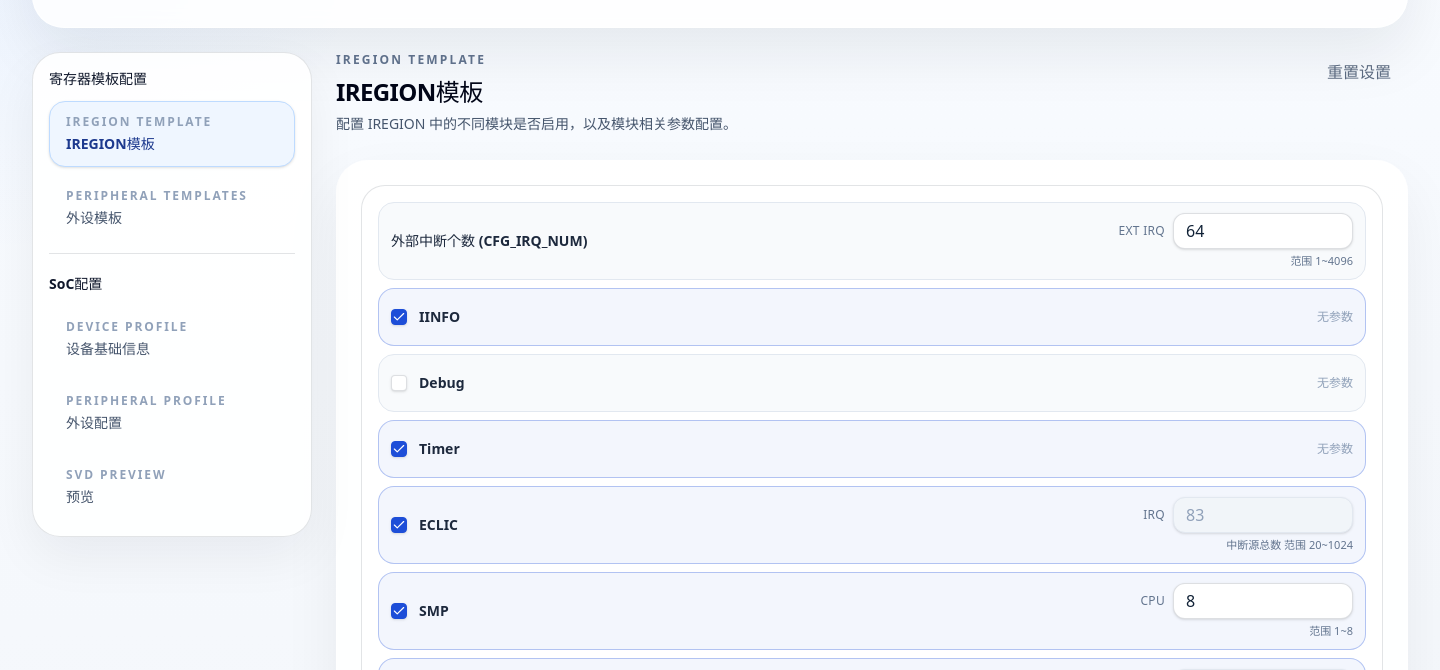
Scenario: App › only allows enabling CIDU after both ECLIC and SMP are enabled
Click the text "ECLIC".
click(438, 525)  # box [419,515,458,535]
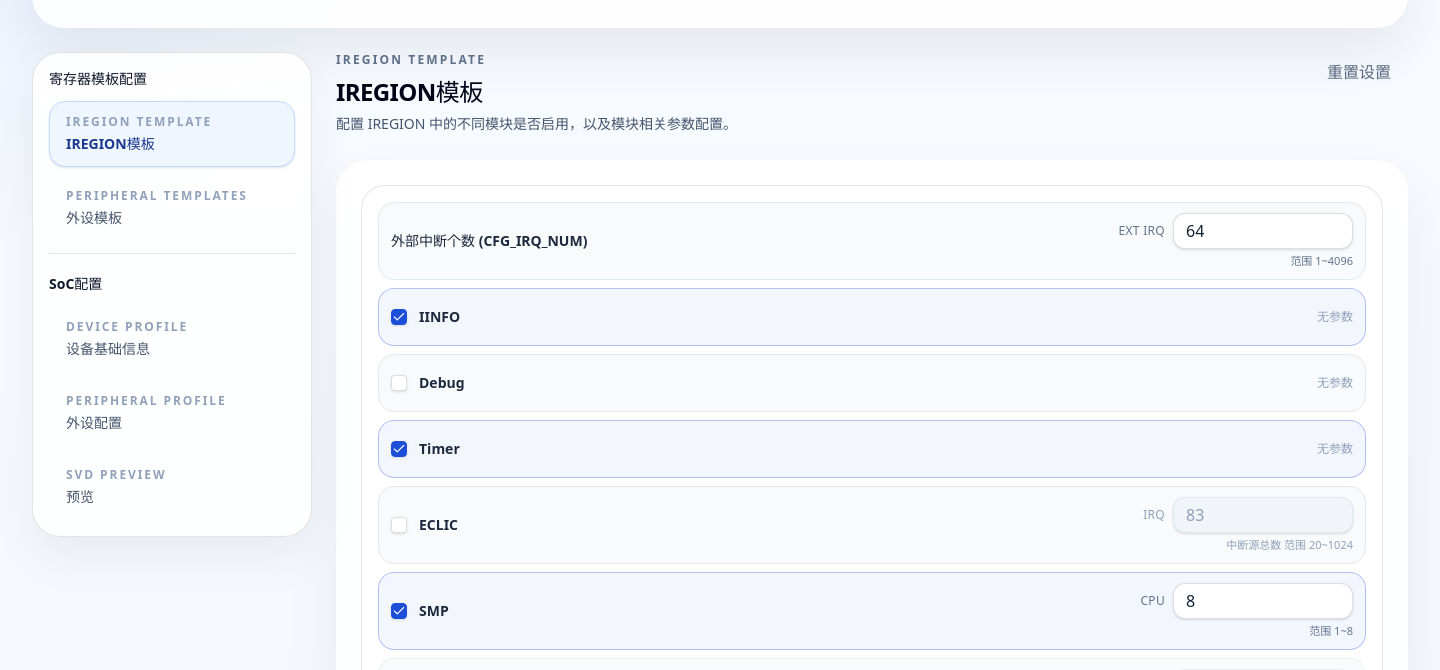
Click the text "ECLIC".
click(438, 525)  # box [419,515,458,535]
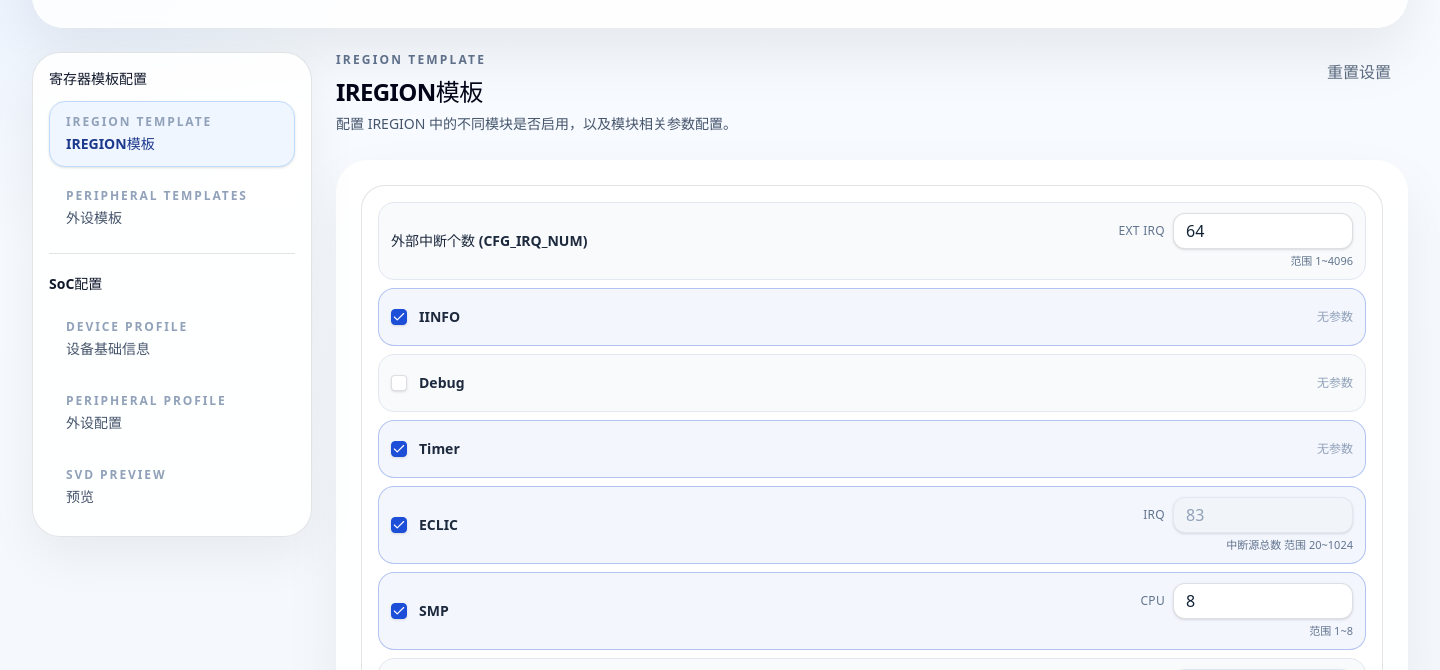
Click the text "SMP".
click(434, 611)  # box [419,601,449,621]
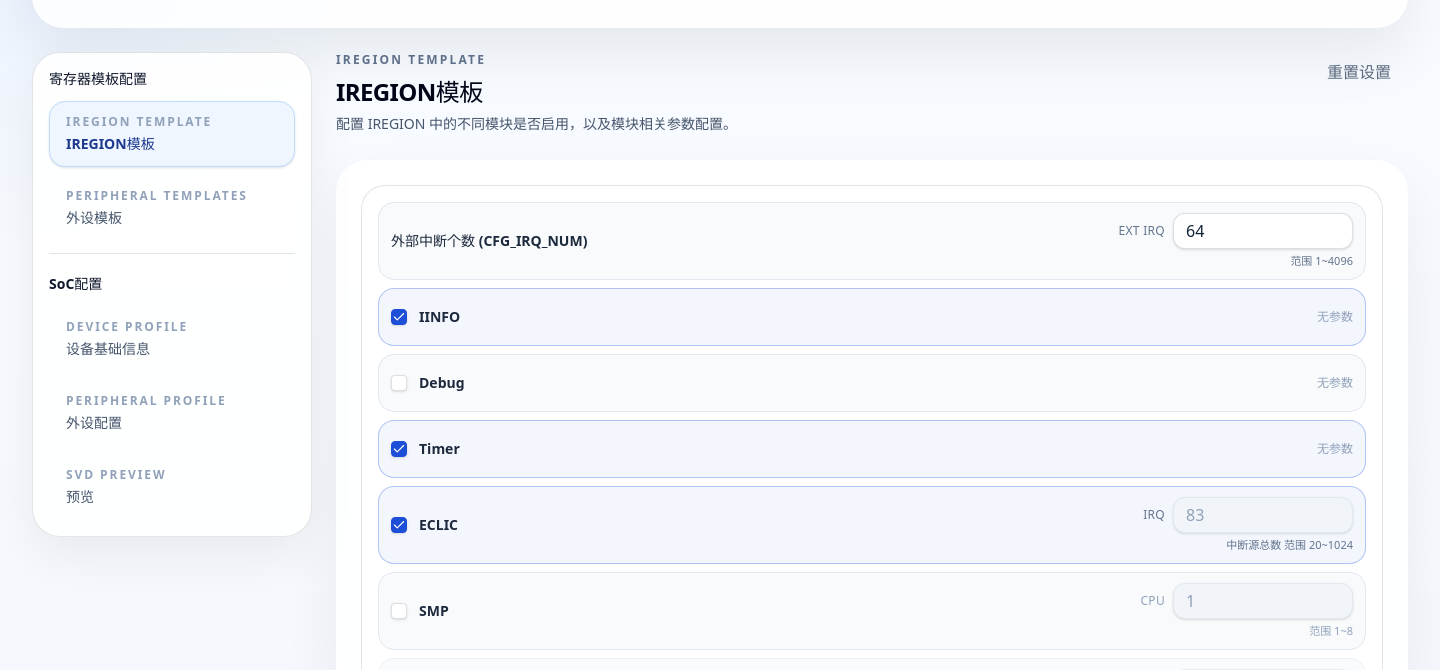
Click the text "SMP".
click(434, 611)  # box [419,601,449,621]
(page scrolled)
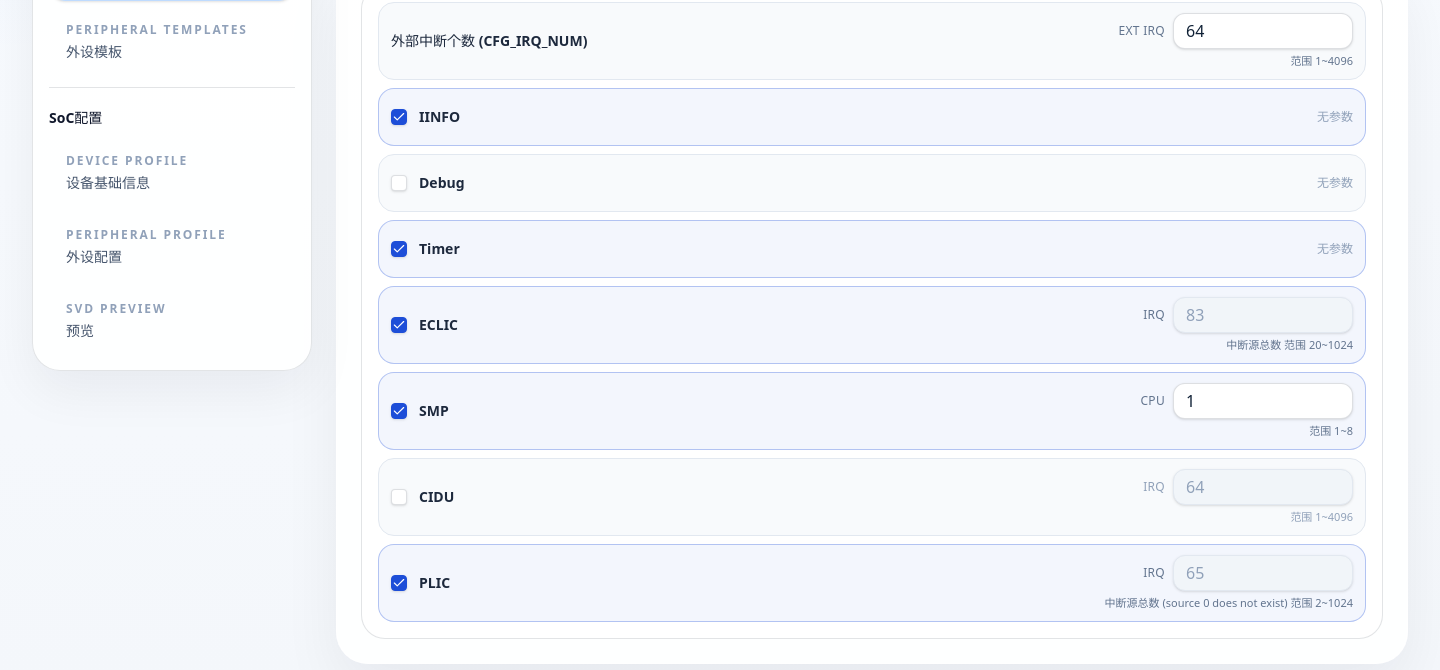
Expected: the checkbox named "CIDU" next to "CIDU" is enabled, [391,489,407,505]
